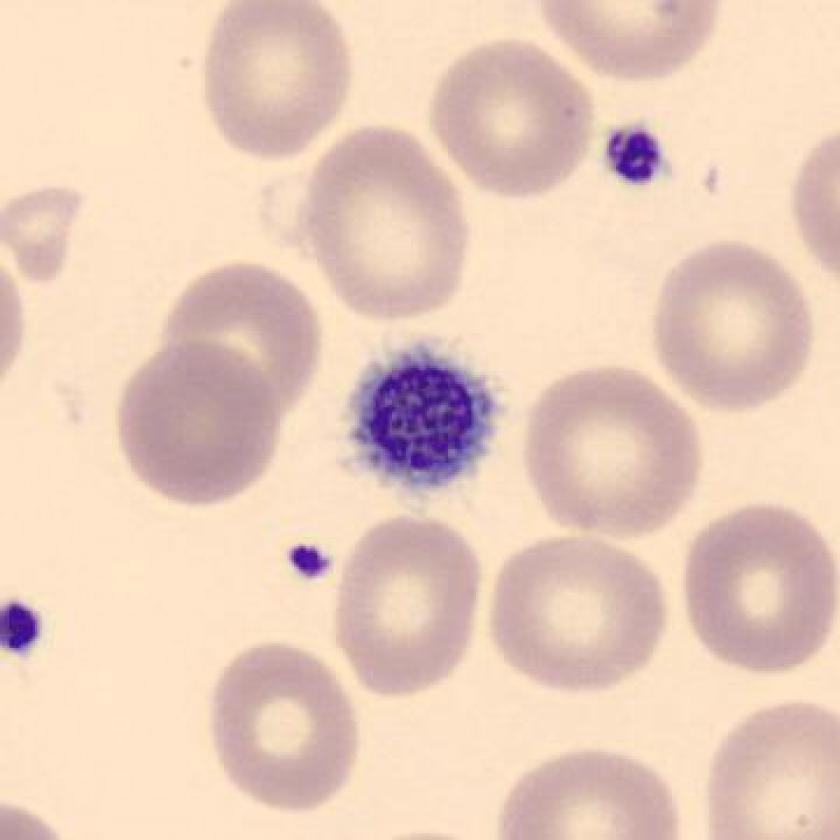platelets: (342, 330, 510, 515), (591, 112, 673, 200), (277, 533, 347, 598), (1, 594, 50, 661)
